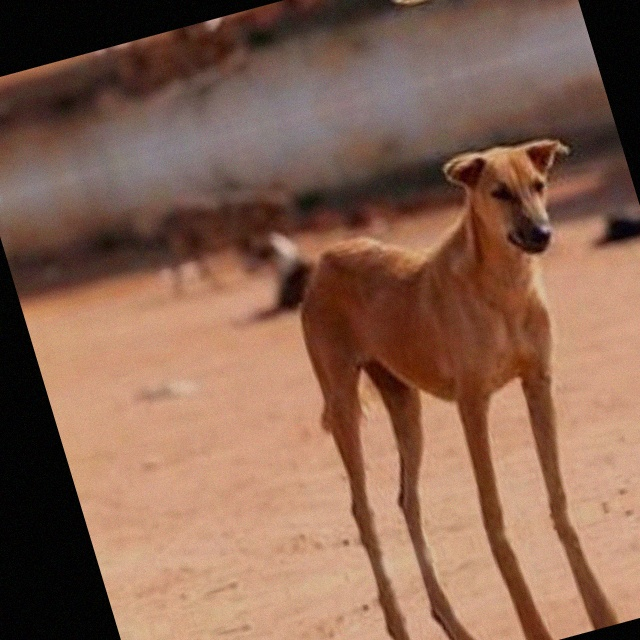dog: (192, 101, 640, 579), (310, 494, 640, 640), (143, 0, 540, 94)
